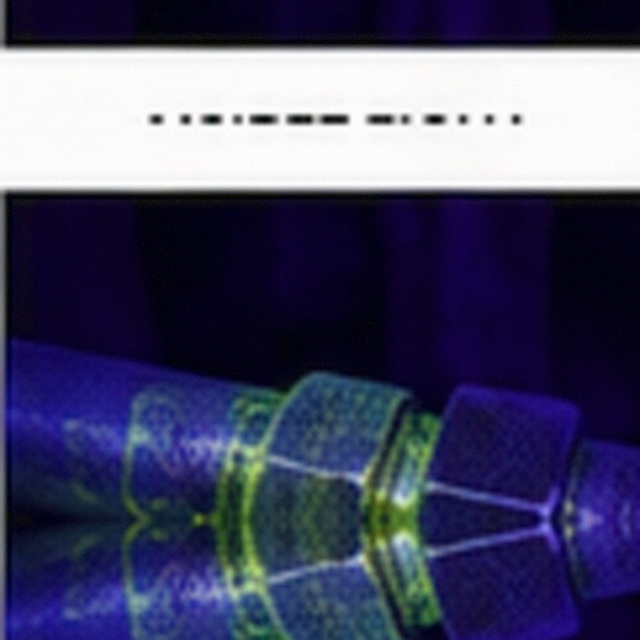hydraulic_oil_leak: (357, 415, 438, 591), (210, 460, 267, 577), (234, 378, 307, 442), (294, 484, 327, 556), (363, 391, 401, 430), (126, 497, 137, 511), (126, 526, 136, 539), (356, 392, 365, 404), (193, 514, 203, 524), (252, 585, 262, 591), (326, 412, 331, 418), (142, 516, 145, 524), (328, 389, 331, 395), (259, 448, 262, 452), (133, 440, 135, 443), (376, 435, 378, 438)
